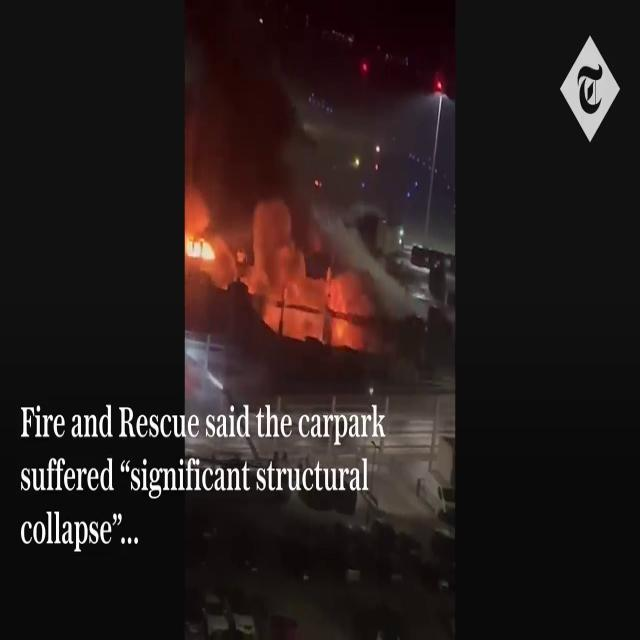Fire: (184, 218, 220, 270)
Smoke: (184, 0, 336, 218)
